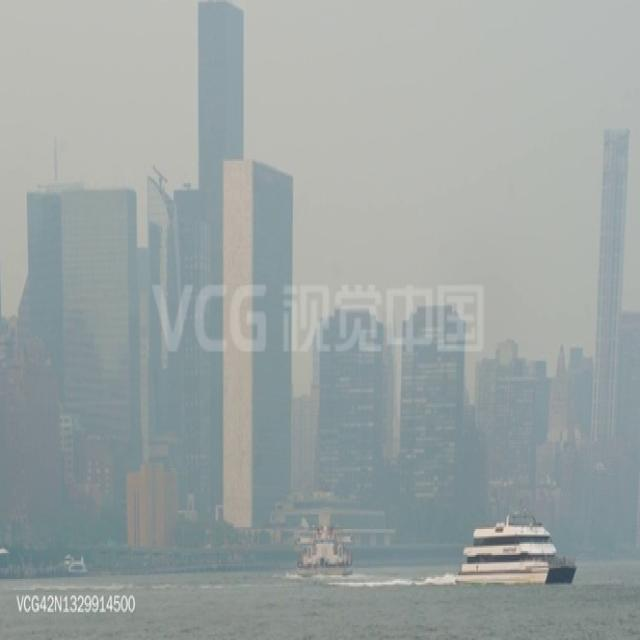houseboat: (60, 550, 88, 577)
passenger ship: (454, 514, 577, 591), (297, 522, 354, 578)
